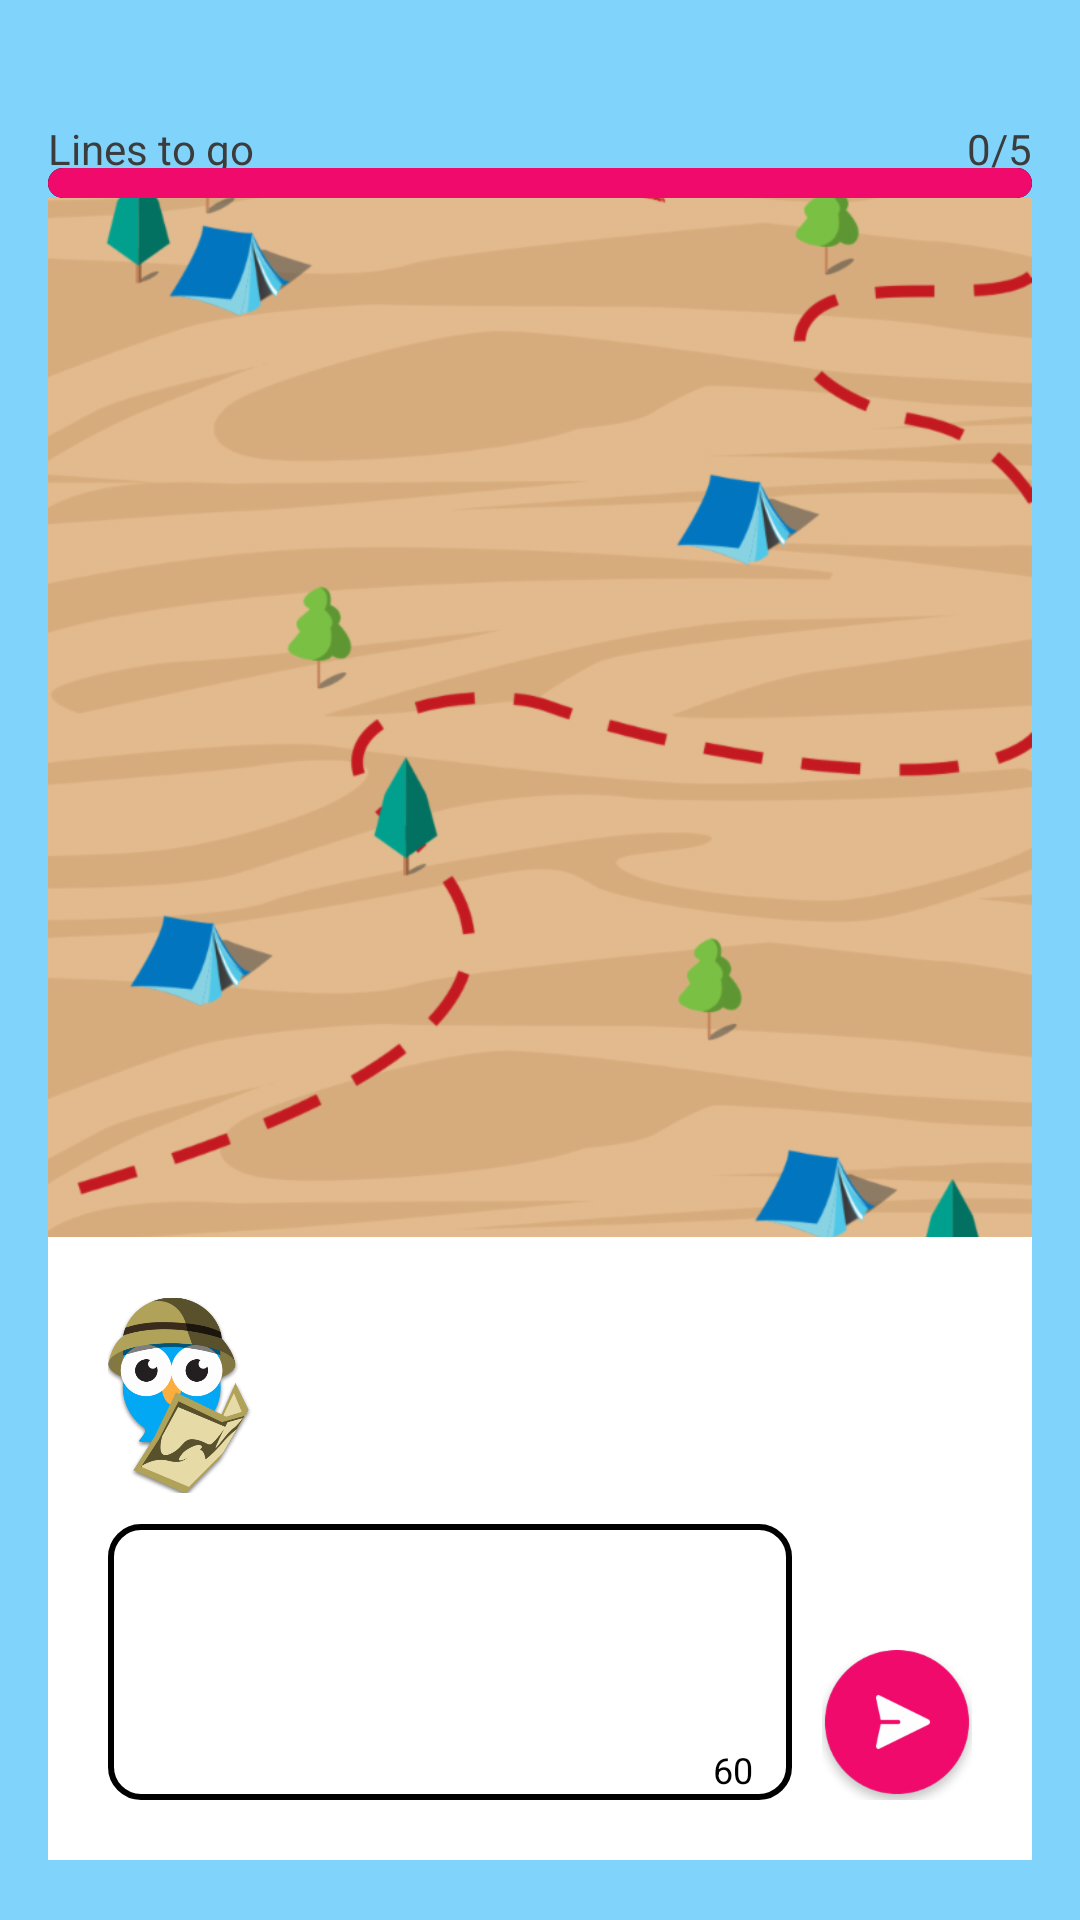

Where to tap for icons on this 1080*1920 app screen, as (x,y):
storyline story adventure: (179,1395)
